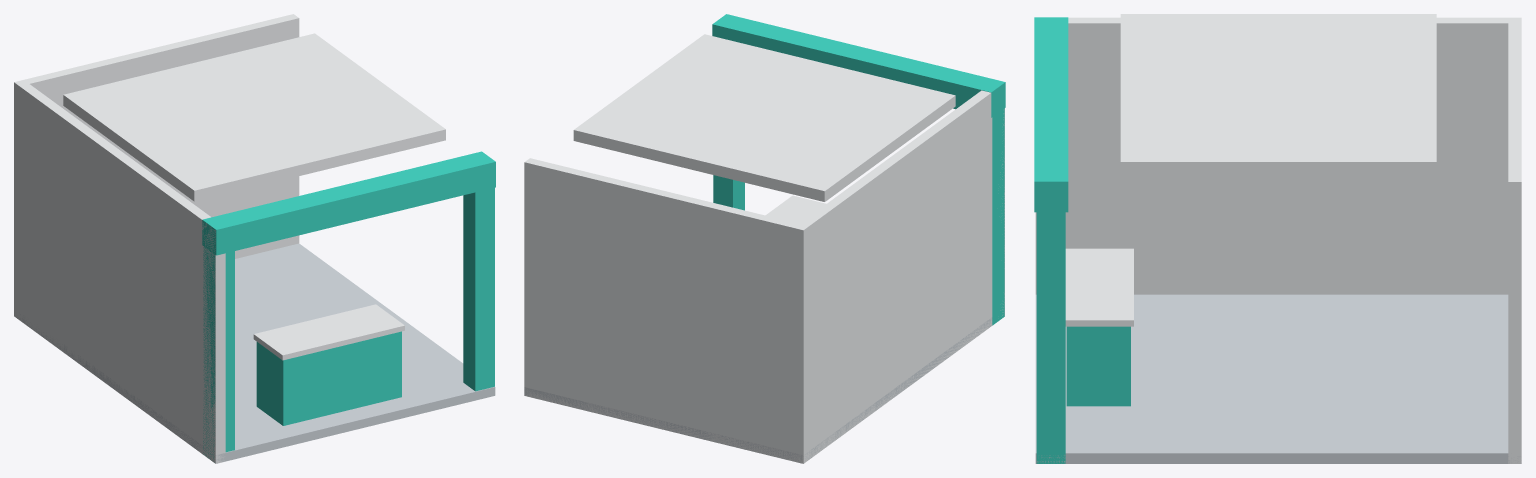
3 views of the same model, side by side, from view 1: azimuth 30°, elevation 25°; view 2: azimuth 150°, elevation 25°; view 3: azimuth 270°, elevation 25° (orthographic). The views are drawn at different scales.
Visible parts, largest first — view 1: Exhibition Booth Concept; view 2: Exhibition Booth Concept; view 3: Exhibition Booth Concept.
Part boxes in pixels (box(x1,y1,x2,y2)): Exhibition Booth Concept: box(14, 14, 495, 463); Exhibition Booth Concept: box(524, 14, 1005, 463); Exhibition Booth Concept: box(1034, 14, 1521, 463).
Bounding box in the file's own units: 4 × 3.34 × 5.02.
